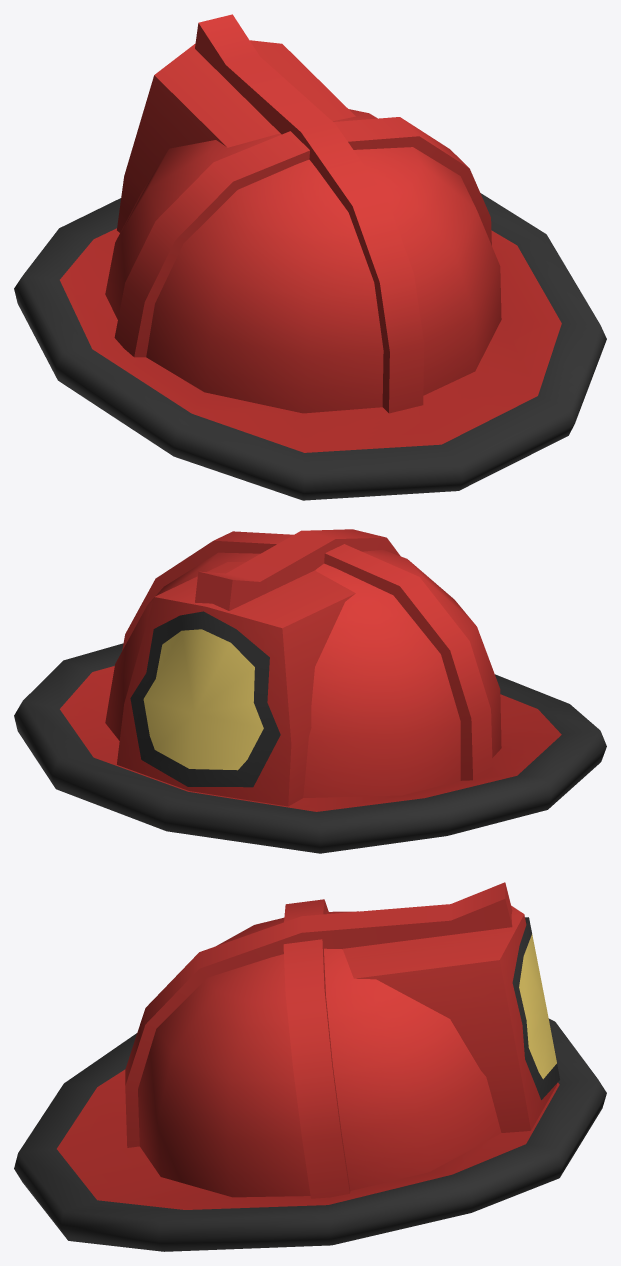
The model's file is Headgear_25.fbx.
3 renders of one model, top to bottom at view 1: azimuth 30°, elevation 25°; view 2: azimuth 150°, elevation 25°; view 3: azimuth 270°, elevation 25°, orthographic.
Parts seen in each view (by area): view 1: Headgear_25; view 2: Headgear_25; view 3: Headgear_25.
Part boxes in pixels (bbox=[...]): Headgear_25: bbox=[14, 14, 606, 500]; Headgear_25: bbox=[14, 529, 606, 853]; Headgear_25: bbox=[14, 882, 606, 1251].
Bounding box in the file's own units: 116 × 65.7 × 121.
